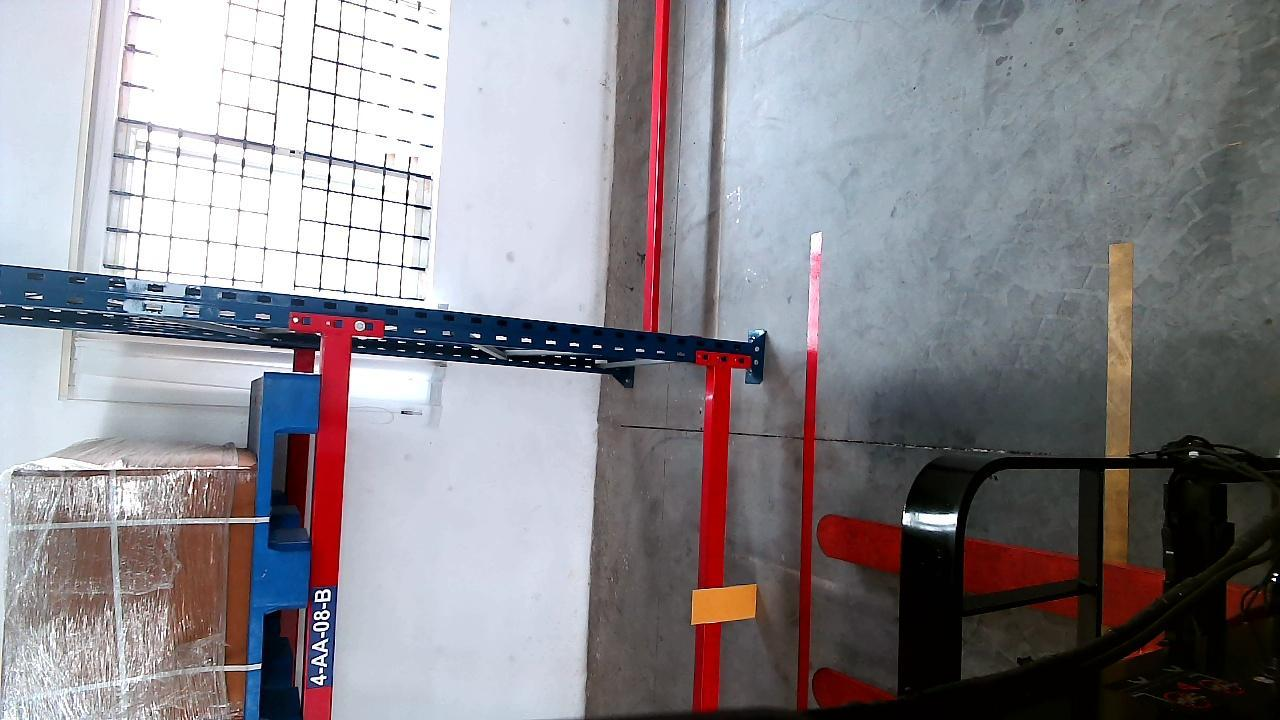red_line: (795, 229, 825, 720)
yellow_line: (1105, 233, 1134, 564)
